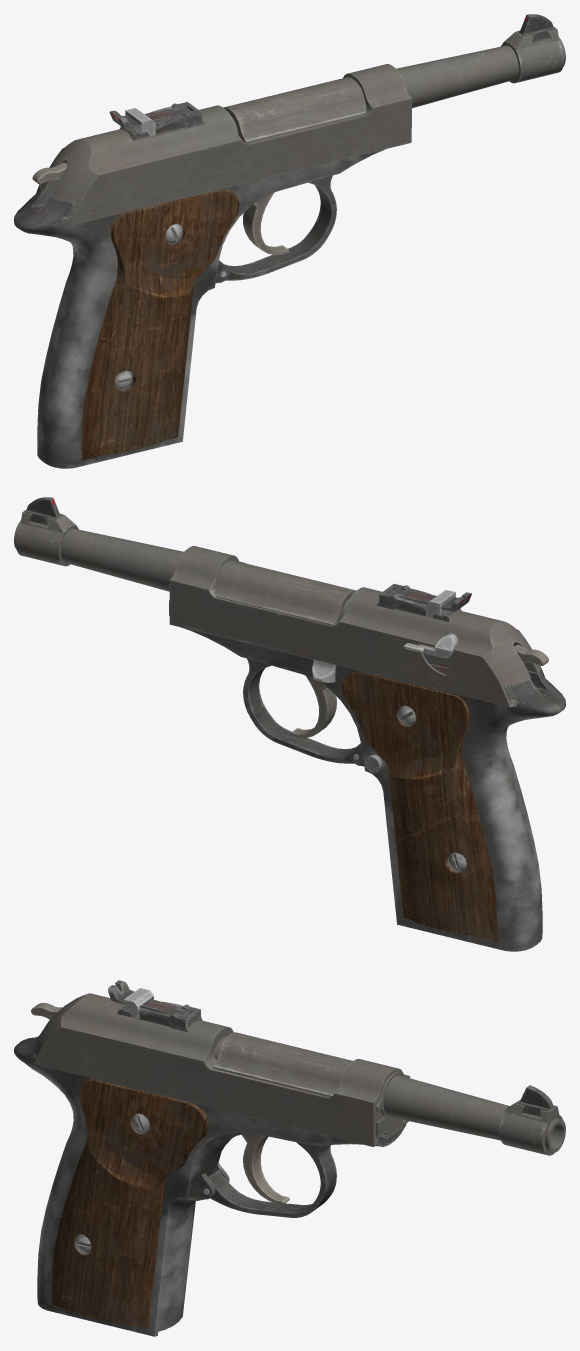
Rendered from service_pistol.glb.
3 views of the same model, one above another, from view 1: azimuth 30°, elevation 25°; view 2: azimuth 150°, elevation 25°; view 3: azimuth 330°, elevation 25° (orthographic).
Visible parts, largest first — view 1: service_pistol_pistol_a, service_pistol_slide_a, service_pistol_trigger_a; view 2: service_pistol_pistol_a, service_pistol_slide_a, service_pistol_trigger_a; view 3: service_pistol_pistol_a, service_pistol_slide_a, service_pistol_trigger_a.
Boxes of the visible parts, box(x1,y1,x2,y2) form: service_pistol_pistol_a: box(14, 14, 565, 468); service_pistol_slide_a: box(41, 64, 411, 225); service_pistol_trigger_a: box(243, 193, 289, 254); service_pistol_pistol_a: box(14, 497, 565, 951); service_pistol_slide_a: box(169, 546, 544, 707); service_pistol_trigger_a: box(290, 676, 336, 737); service_pistol_pistol_a: box(14, 1032, 565, 1336); service_pistol_slide_a: box(32, 980, 410, 1146); service_pistol_trigger_a: box(242, 1134, 289, 1204).
Bounding box in the file's own units: 0.2219 × 0.1295 × 0.0318.
1 material, 1 textured.
